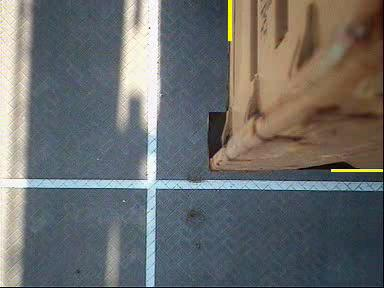groundmarker_2: (113, 140, 198, 190)
